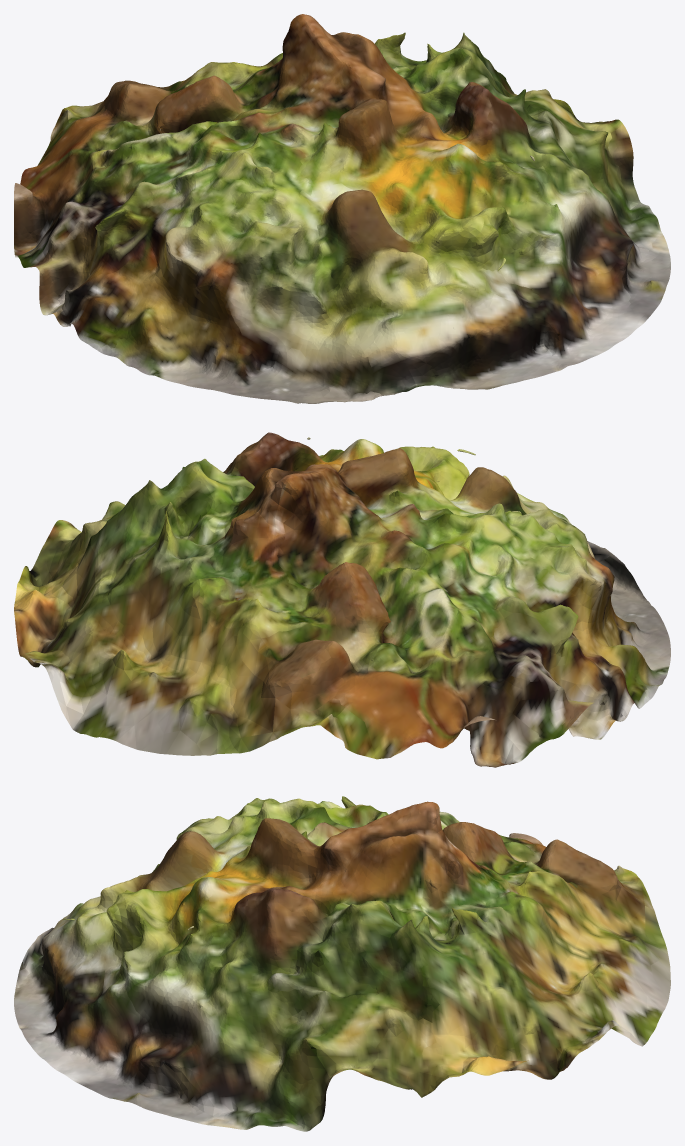
3 renders of one model, top to bottom at view 1: azimuth 30°, elevation 25°; view 2: azimuth 150°, elevation 25°; view 3: azimuth 270°, elevation 25°, orthographic. The views are drawn at different scales.
Visible parts, largest first — view 1: mesh; view 2: mesh; view 3: mesh.
Boxes of the visible parts, box(x1,y1,x2,y2) form: mesh: box(14, 14, 670, 403); mesh: box(14, 432, 670, 767); mesh: box(14, 796, 670, 1131).
Size of the model in its own units: 0.1874 by 0.0686 by 0.1959.
1 material, 1 textured.
